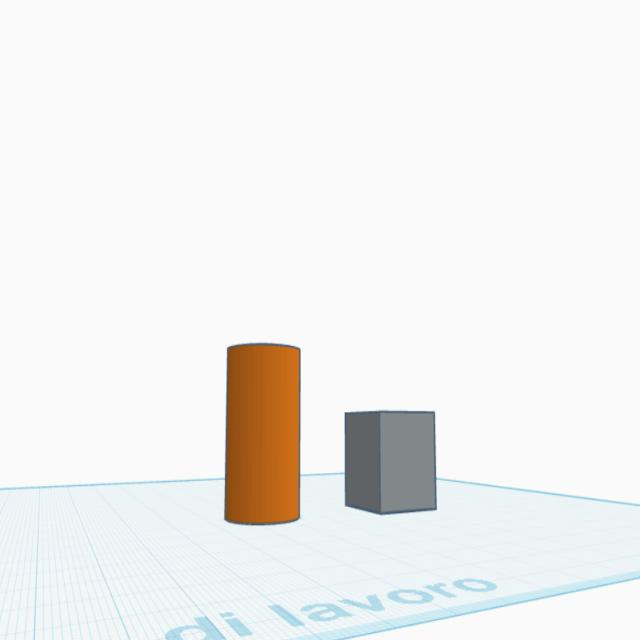cube: (340, 402, 439, 520)
